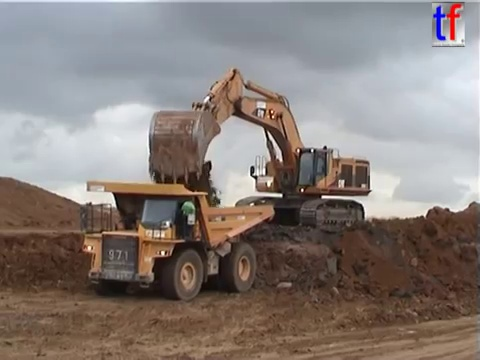excavator: (145, 65, 375, 235)
truck: (78, 178, 276, 302)
worker: (179, 193, 200, 241)
